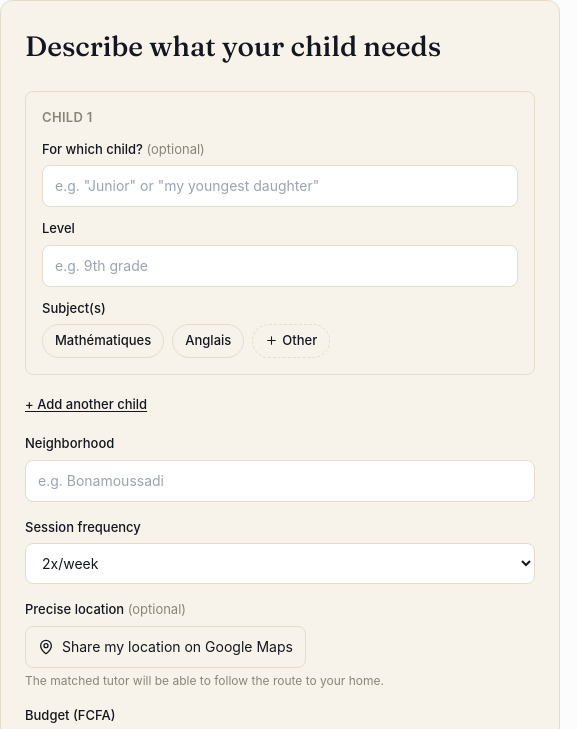
Test: RequestForm › shows an error and does not block submission if location sharing fails
The width and height of the screenshot is (577, 729).
Click the button "Share my location on Google Maps" at {"x": 165, "y": 646}, box [25, 626, 306, 668]
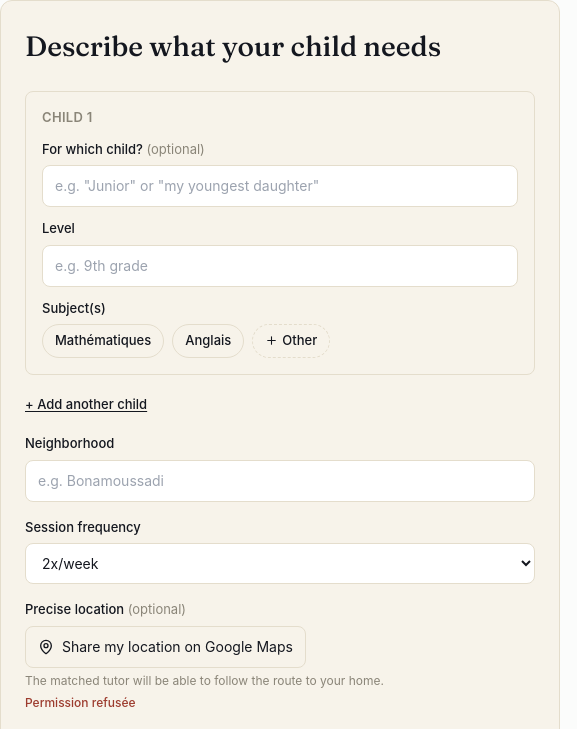
Check: the text "Permission refusée" is shown, box [25, 694, 136, 710]
